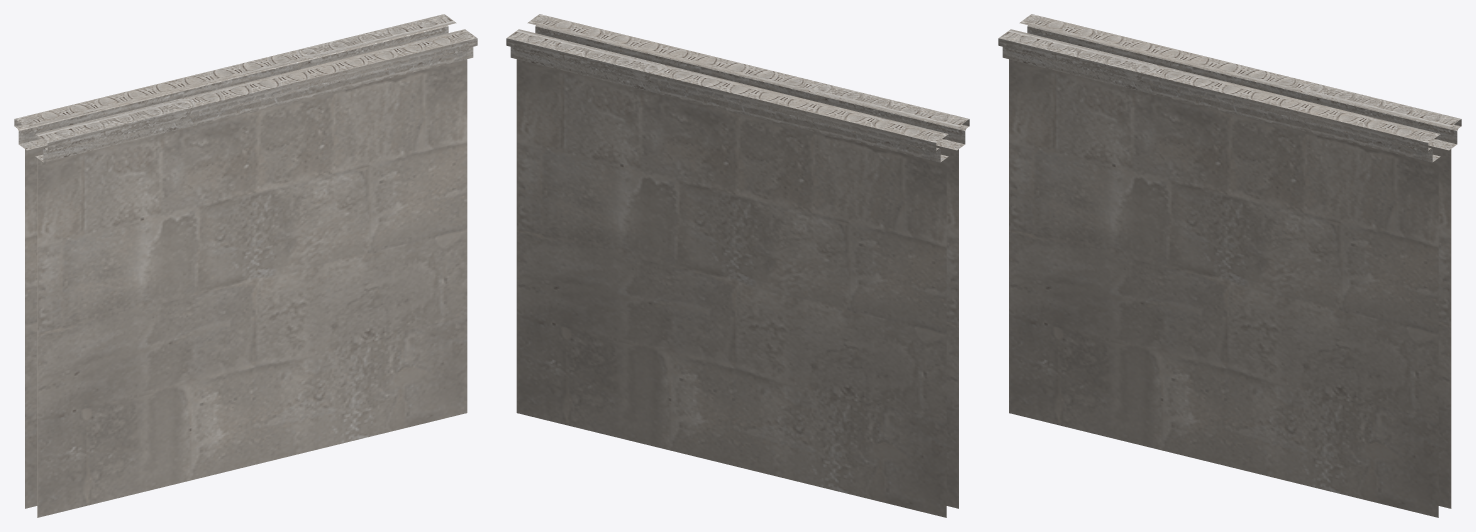
Rendered from arch_03.fbx.
3 renders of one model, left to right at view 1: azimuth 30°, elevation 25°; view 2: azimuth 150°, elevation 25°; view 3: azimuth 330°, elevation 25°, orthographic.
Parts seen in each view (by area): view 1: Box006, Rectangle042; view 2: Box006, Rectangle042; view 3: Box006, Rectangle042.
Boxes of the visible parts, left/top/right/bottom form: Box006: left=25, top=59, right=467, bottom=517; Rectangle042: left=14, top=14, right=477, bottom=162; Box006: left=516, top=59, right=958, bottom=517; Rectangle042: left=506, top=14, right=969, bottom=162; Box006: left=1009, top=59, right=1451, bottom=517; Rectangle042: left=998, top=14, right=1461, bottom=162.
Size of the model in its own units: 120 by 16 by 102.
Materials: 1 (1 with a texture image).
